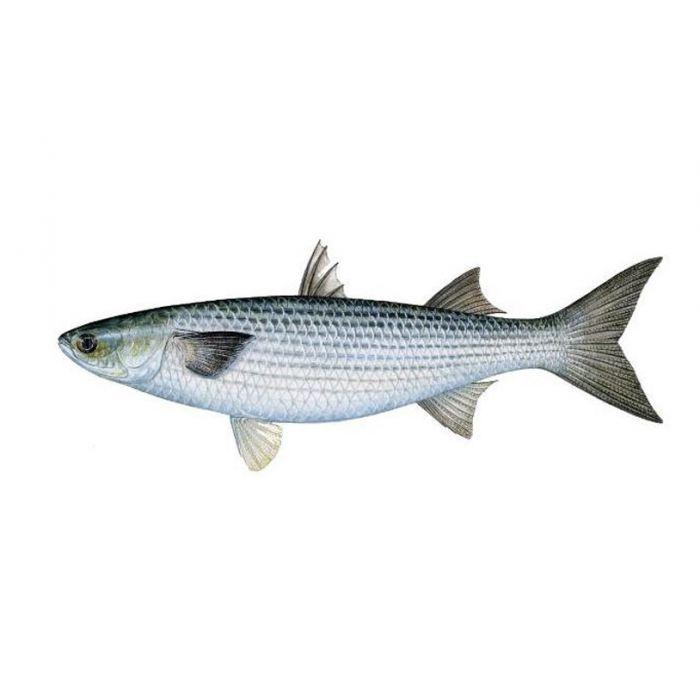Mullet: (61, 235, 672, 477)
